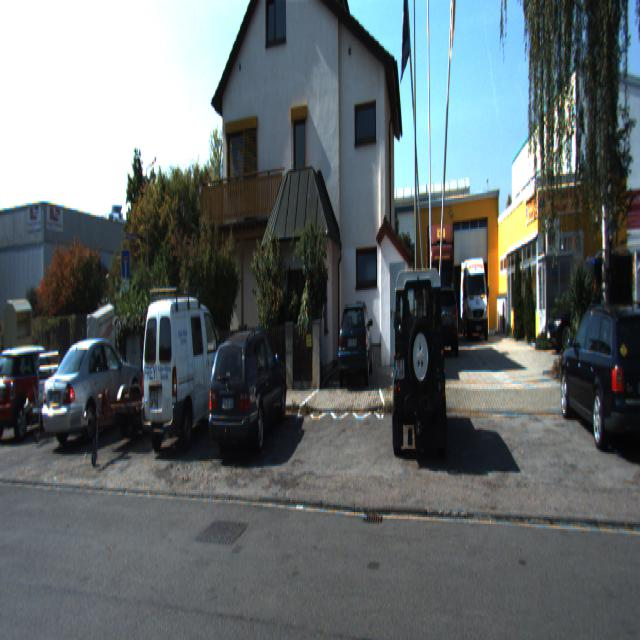Car: (138, 285, 232, 456), (60, 360, 196, 463), (558, 301, 640, 469), (39, 330, 143, 452), (391, 261, 450, 468), (205, 322, 288, 462), (11, 342, 85, 441), (0, 339, 71, 438), (428, 212, 458, 341), (337, 295, 372, 386), (459, 248, 491, 340), (620, 280, 640, 423), (84, 306, 116, 385), (434, 281, 461, 354)
